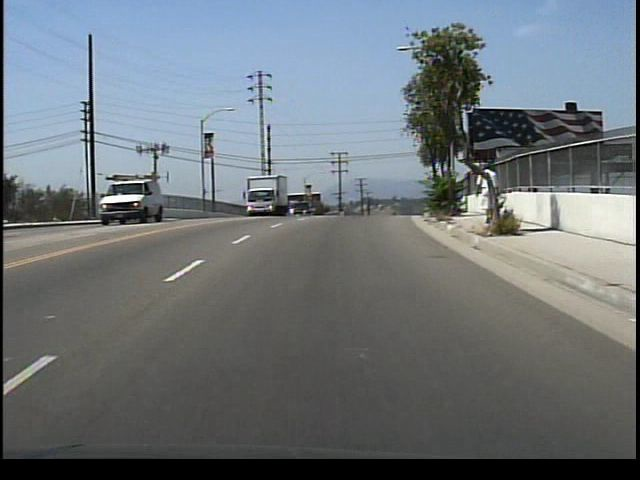person: (477, 160, 504, 227)
